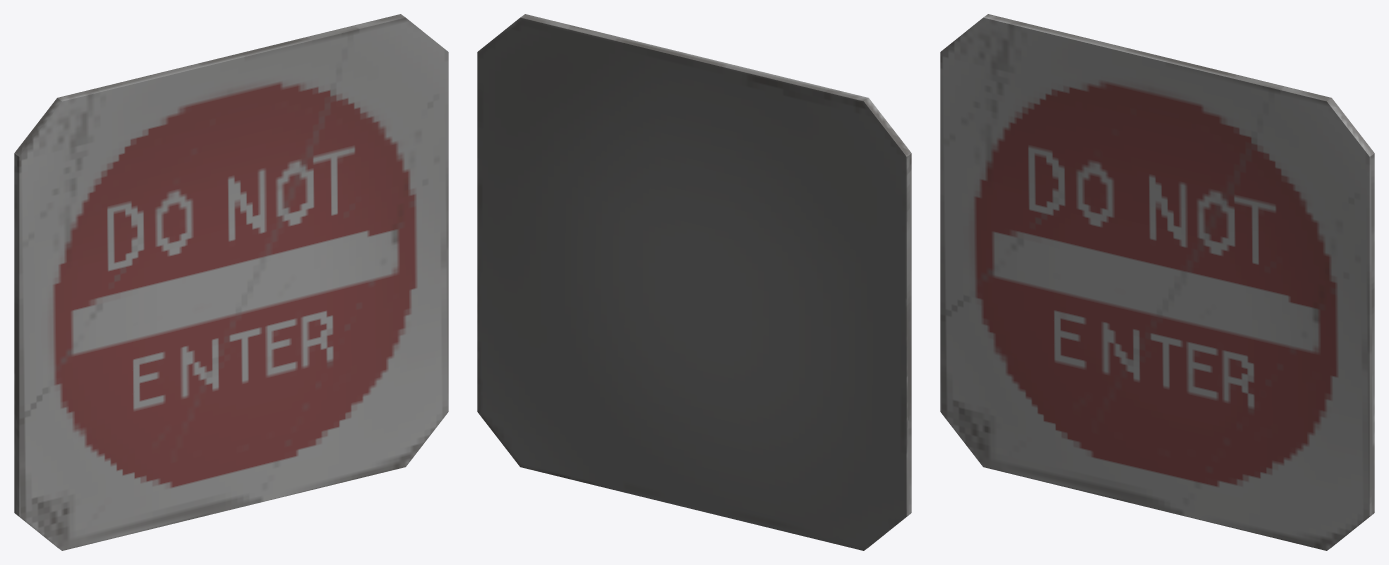
File: donotentersign.fbx
3 views of the same model, side by side, from view 1: azimuth 30°, elevation 25°; view 2: azimuth 150°, elevation 25°; view 3: azimuth 330°, elevation 25° (orthographic).
Visible parts, largest first — view 1: donotentersign; view 2: donotentersign; view 3: donotentersign.
Boxes of the visible parts, x1,y1,x2,y2 form: donotentersign: (14,14,448,550); donotentersign: (477,14,911,550); donotentersign: (940,14,1374,550).
Size of the model in its own units: 1.11 by 1.11 by 0.0222.
